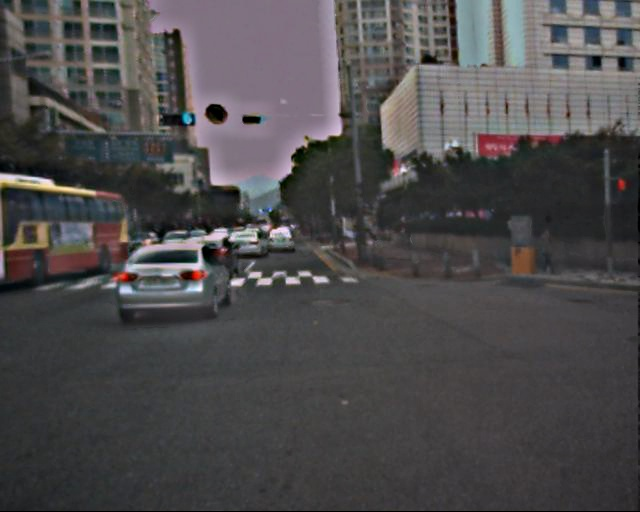person: (537, 228, 558, 278)
